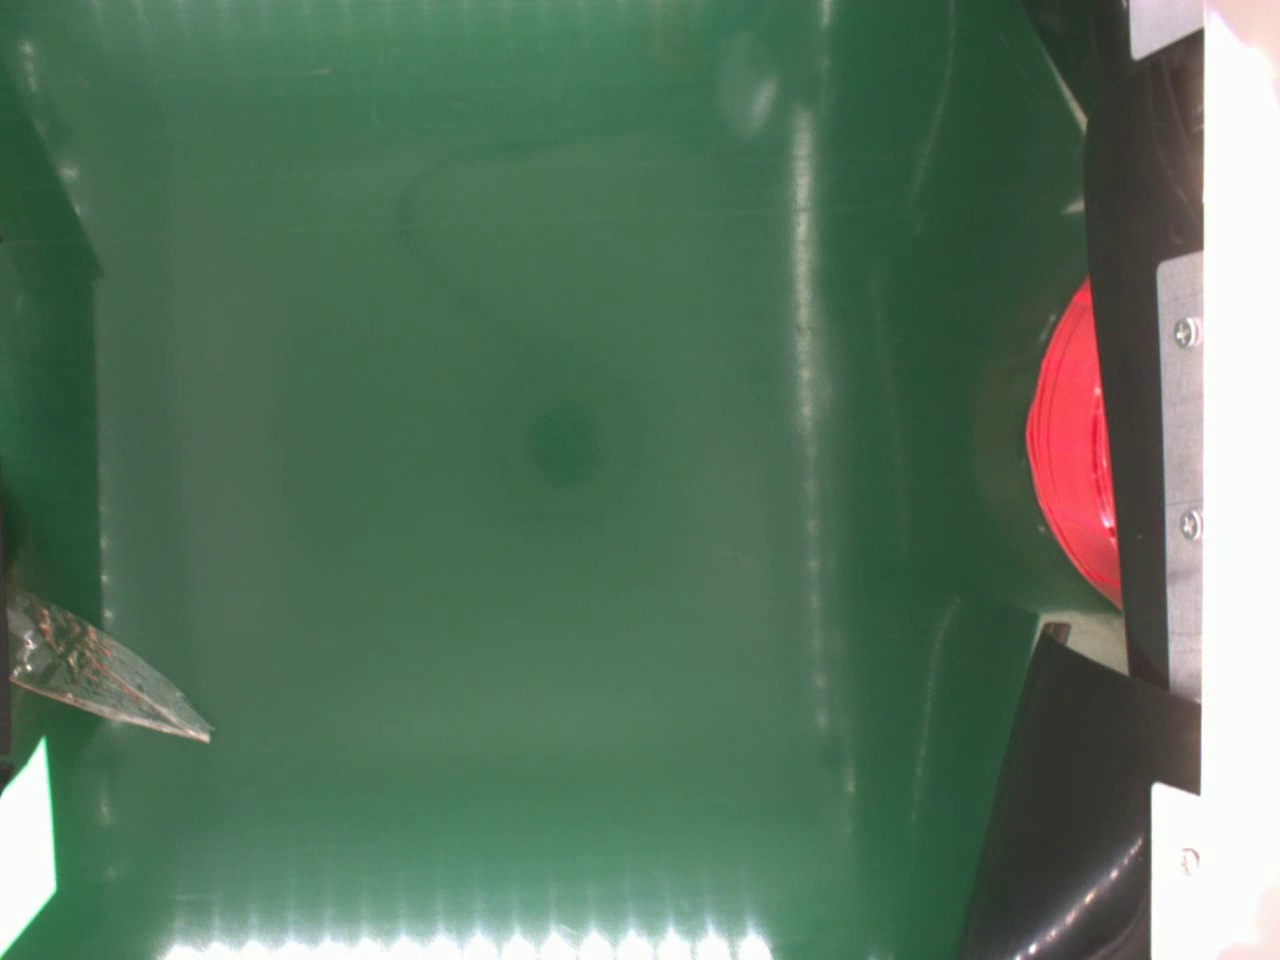red: (1021, 268, 1120, 616)
